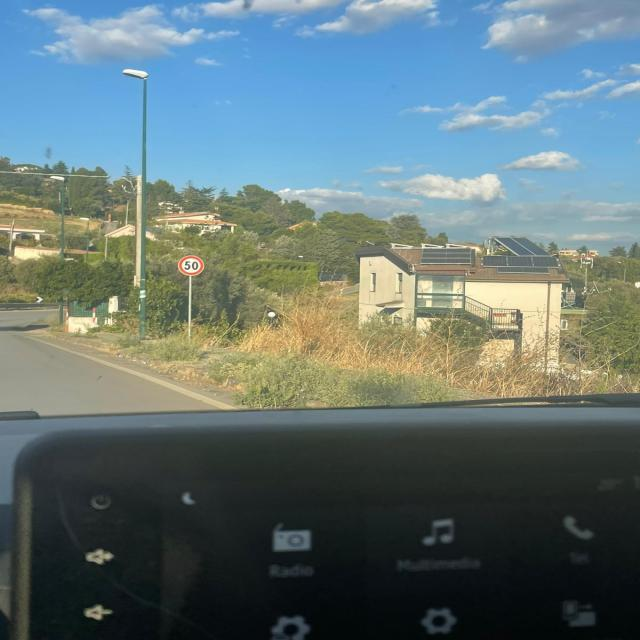forb_speed_over_50: (178, 255, 205, 276)
